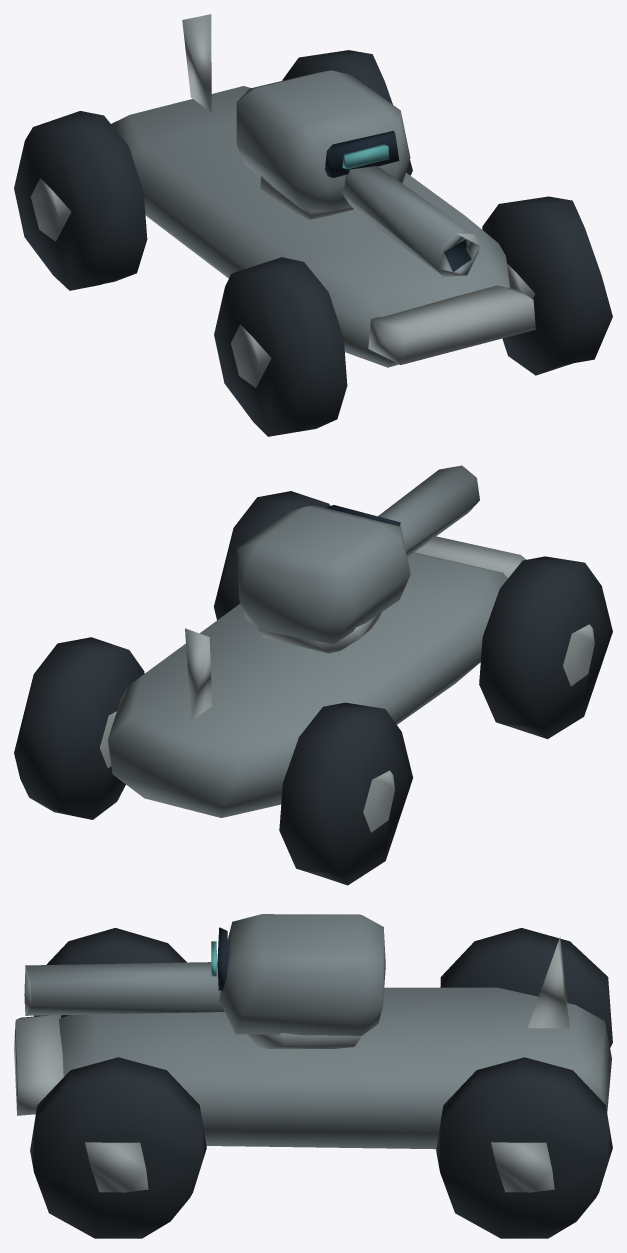
Rendered from TOY_SCOUT.shadow.glb.
The picture shows the model from 3 angles, top to bottom: view 1: azimuth 30°, elevation 25°; view 2: azimuth 150°, elevation 25°; view 3: azimuth 270°, elevation 25°; orthographic projection.
Visible parts, largest first — view 1: Body, WheelsFront, WheelsRear, TurretYaw, BarrelRecoil; view 2: Body, WheelsRear, WheelsFront, TurretYaw, BarrelRecoil; view 3: Body, WheelsRear, WheelsFront, TurretYaw, BarrelRecoil.
Boxes of the visible parts, x1,y1,x2,y2 form: Body: (111, 14, 535, 367); WheelsFront: (214, 196, 612, 436); WheelsRear: (14, 50, 412, 290); TurretYaw: (236, 70, 410, 219); BarrelRecoil: (342, 166, 479, 276); Body: (108, 536, 526, 817); WheelsRear: (14, 637, 412, 885); WheelsFront: (214, 491, 612, 739); TurretYaw: (237, 505, 410, 653); BarrelRecoil: (378, 465, 479, 556); Body: (14, 937, 611, 1149); WheelsRear: (436, 928, 612, 1238); WheelsFront: (30, 928, 206, 1238); TurretYaw: (211, 914, 385, 1048); BarrelRecoil: (24, 962, 224, 1015).
Bounding box in the file's own units: 0.6515 × 0.4252 × 0.9884.
